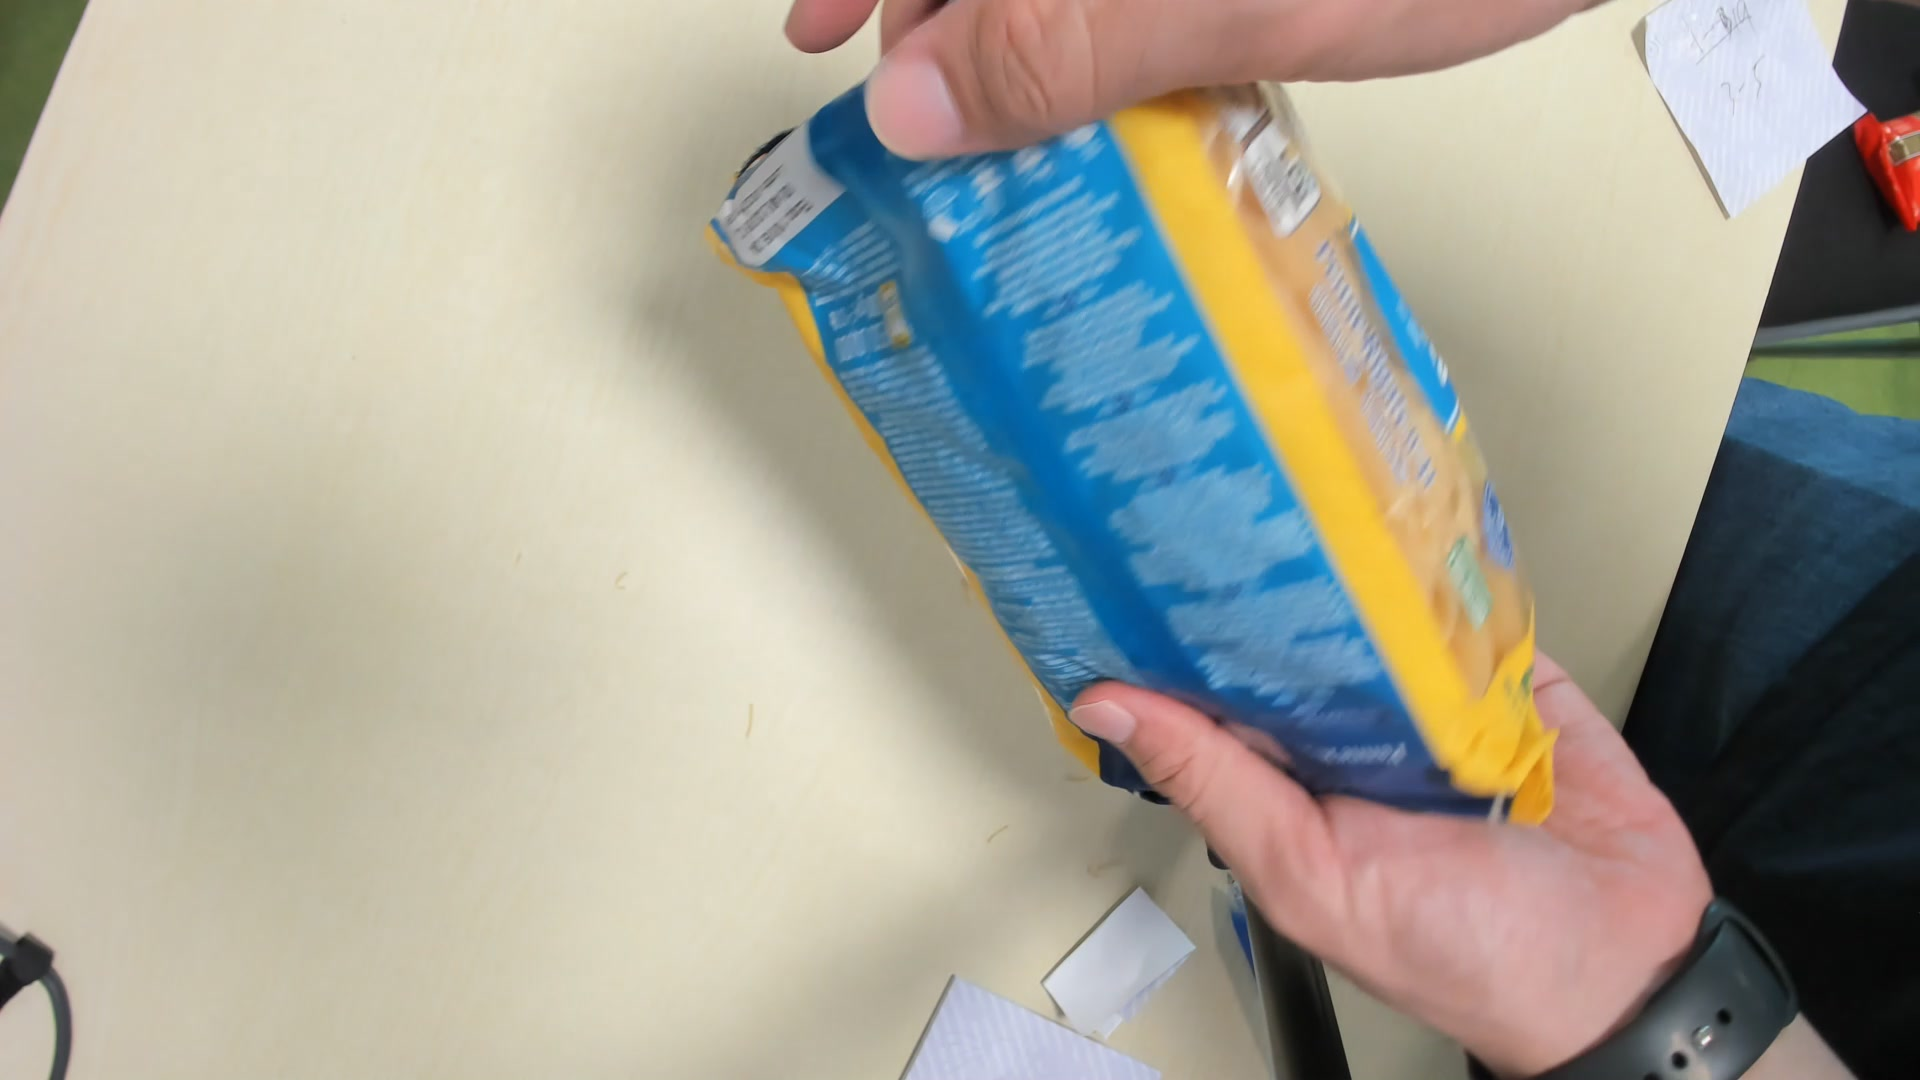Pasta_500-599g_NonHalal_NonHealthy: (713, 44, 1547, 829)
